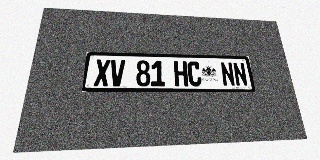1: (151, 60, 165, 86)
8: (136, 60, 150, 86)
C: (187, 61, 202, 86)
H: (174, 61, 188, 86)
N: (220, 62, 236, 86), (232, 62, 248, 86)
V: (109, 60, 125, 86)
X: (93, 59, 110, 86)
